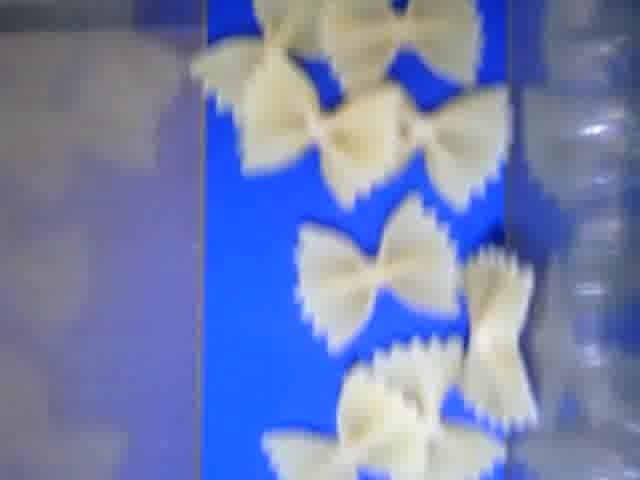farfalle: (235, 53, 408, 212), (293, 193, 458, 352), (371, 336, 508, 480), (260, 361, 418, 480), (192, 1, 317, 131), (397, 76, 513, 208), (459, 248, 542, 429), (321, 1, 481, 91)
